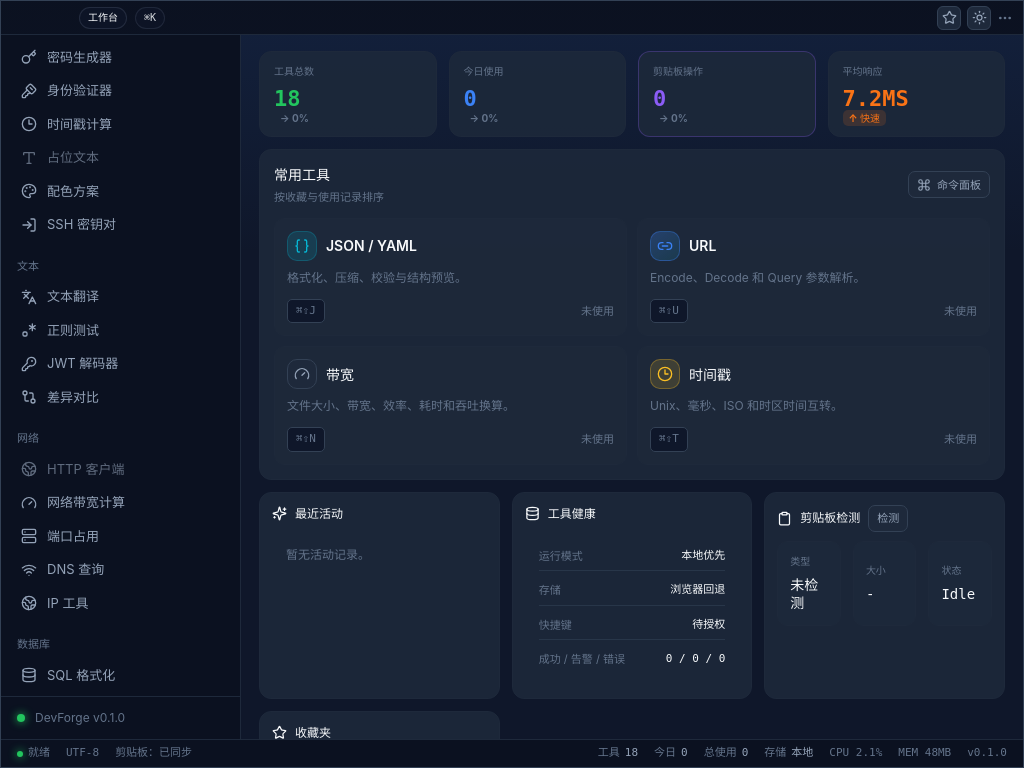
Test case: App shell › navigates to the IP tool
The image size is (1024, 768).
(page scrolled)
Step 1. Click the link "IP 工具" → (55, 603), box [21,594,88,611]
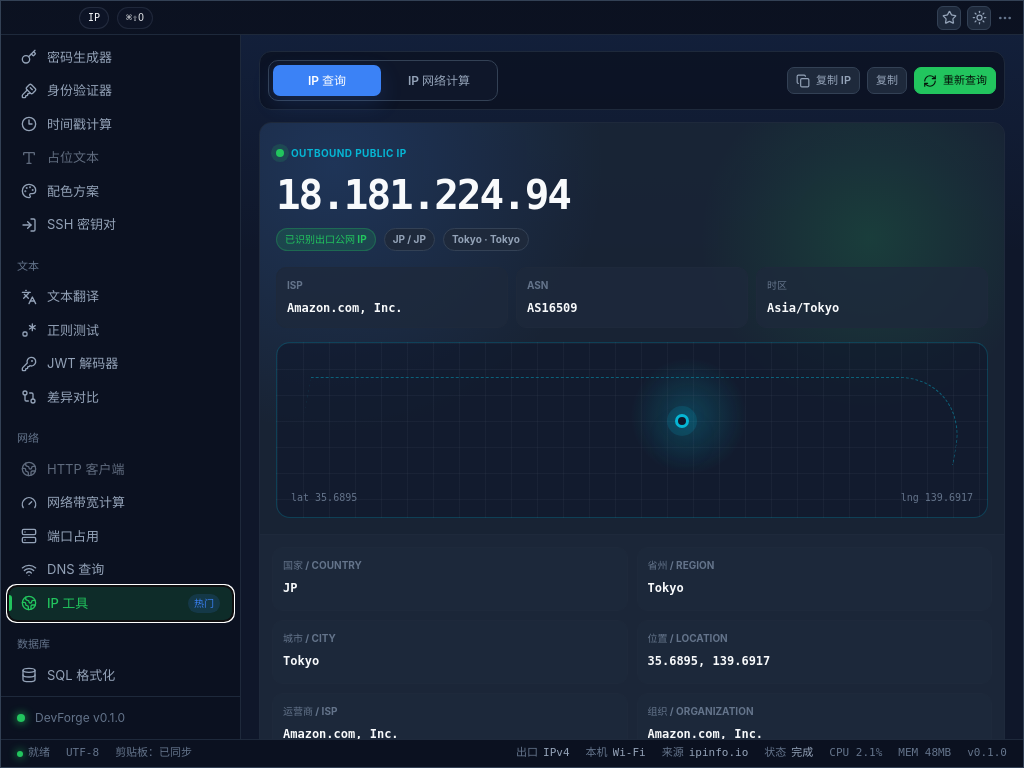
Expected: the button "IP 网络计算" is shown, [385,65,493,96]
